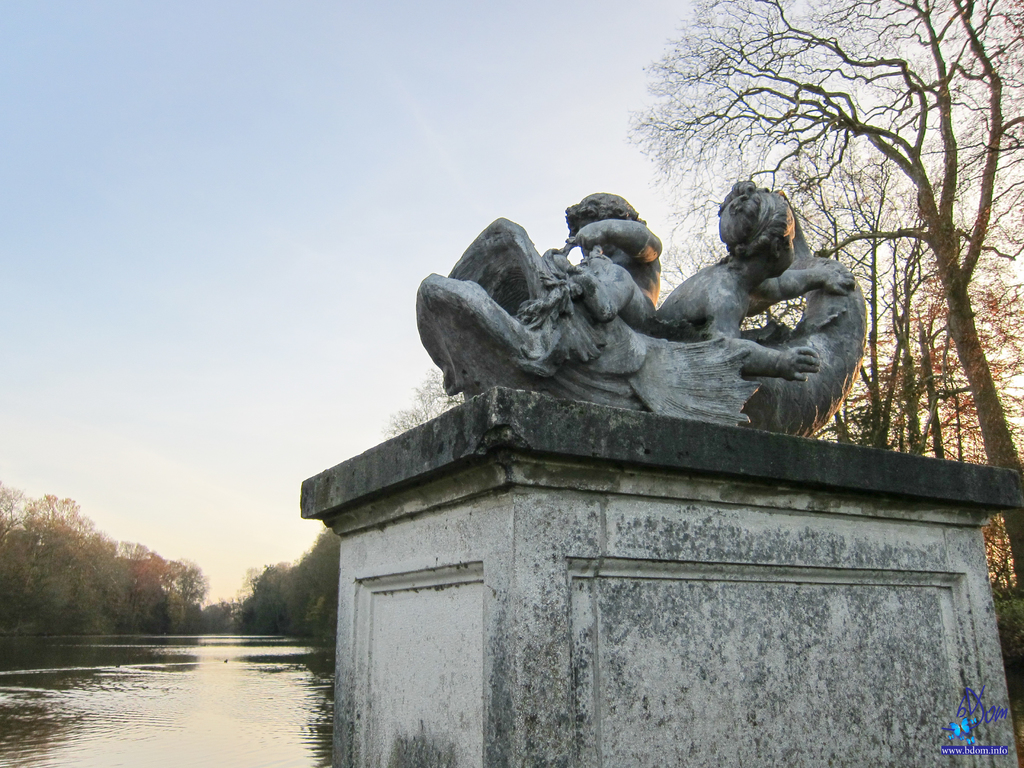Tree: (625, 0, 1023, 602), (10, 478, 183, 648), (206, 524, 339, 634), (384, 360, 464, 432)
